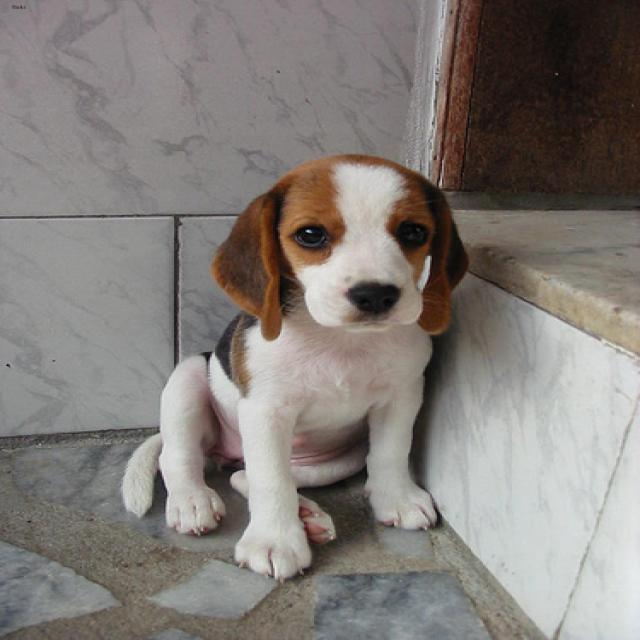dog-beagle: (106, 142, 485, 588)
